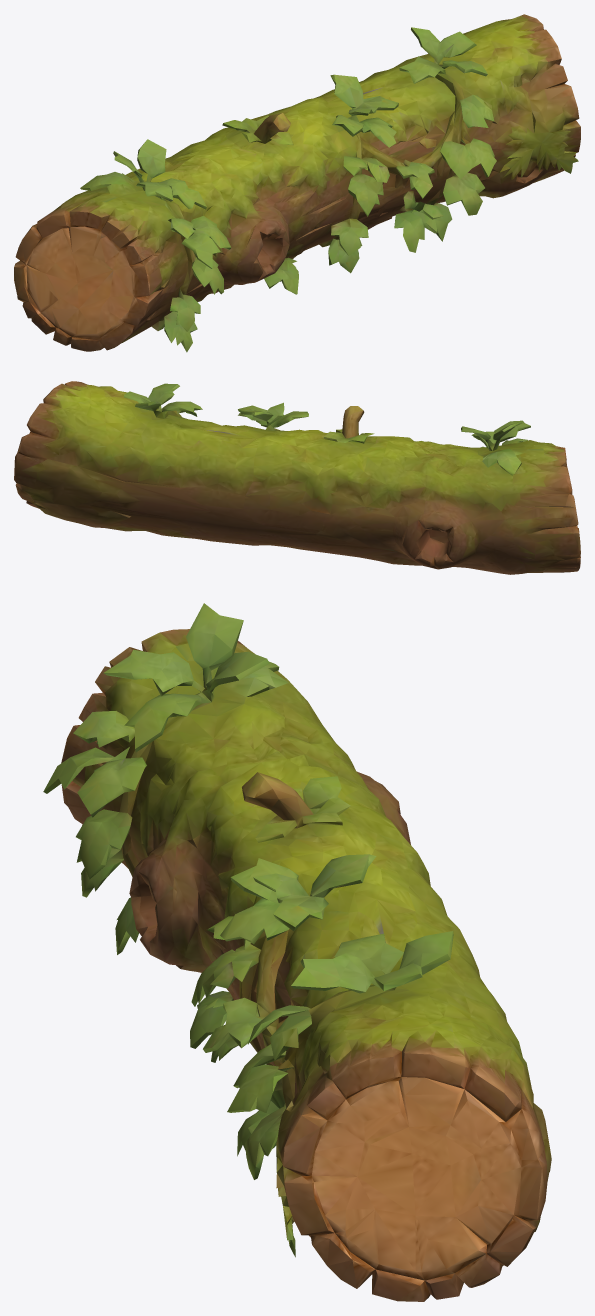
Rendered from tronco_musgoso_6000.glb.
3 views of the same model, one above another, from view 1: azimuth 30°, elevation 25°; view 2: azimuth 150°, elevation 25°; view 3: azimuth 270°, elevation 25° (orthographic). The views are drawn at different scales.
Parts seen in each view (by area): view 1: tronco_musgoso_malla; view 2: tronco_musgoso_malla; view 3: tronco_musgoso_malla.
Part boxes in pixels (bbox=[...]): tronco_musgoso_malla: bbox=[14, 14, 580, 352]; tronco_musgoso_malla: bbox=[14, 381, 580, 574]; tronco_musgoso_malla: bbox=[43, 603, 551, 1301].
Size of the model in its own units: 0.6427 by 0.2013 by 0.2855.
1 material, 1 textured.
